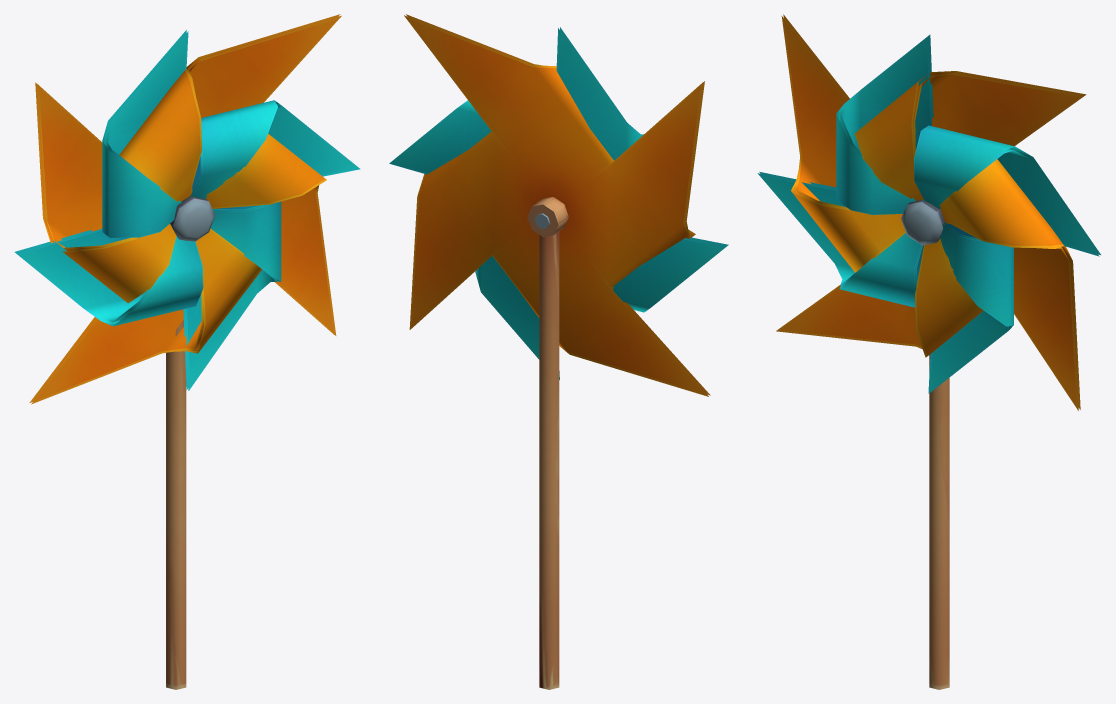
The model's file is SE_Vane_02.fbx.
The picture shows the model from 3 angles, left to right: view 1: azimuth 30°, elevation 25°; view 2: azimuth 150°, elevation 25°; view 3: azimuth 330°, elevation 25°; orthographic projection.
Visible parts, largest first — view 1: SE_Vane_02; view 2: SE_Vane_02; view 3: SE_Vane_02.
Boxes of the visible parts, x1,y1,x2,y2 form: SE_Vane_02: (14, 14, 360, 689); SE_Vane_02: (389, 14, 728, 689); SE_Vane_02: (757, 14, 1100, 689).
Bounding box in the file's own units: 2.54 × 4.66 × 0.4242.
